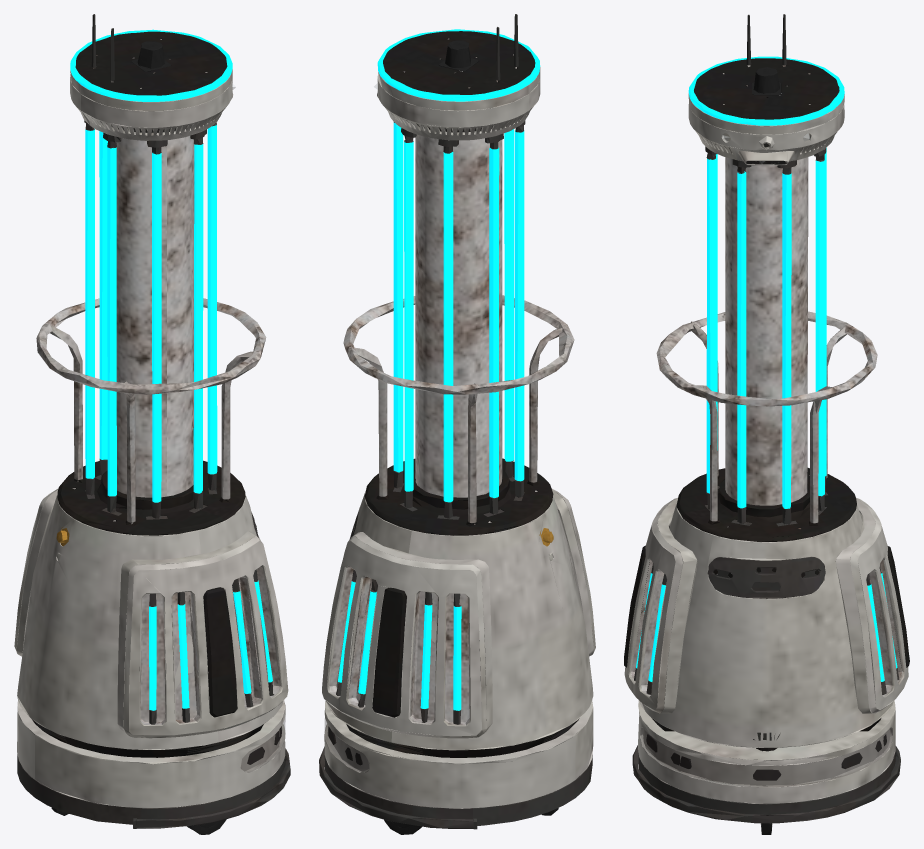
The model's file is craft_r04_lumen_vigil.glb.
3 views of the same model, side by side, from view 1: azimuth 30°, elevation 25°; view 2: azimuth 150°, elevation 25°; view 3: azimuth 270°, elevation 25° (orthographic). The views are drawn at different scales.
Visible parts, largest first — view 1: craft_r04_lumen_vigil; view 2: craft_r04_lumen_vigil; view 3: craft_r04_lumen_vigil.
Part boxes in pixels (x1=…): craft_r04_lumen_vigil: x1=14, y1=14, x2=290, y2=834; craft_r04_lumen_vigil: x1=319, y1=14, x2=595, y2=834; craft_r04_lumen_vigil: x1=624, y1=14, x2=909, y2=834.
Bounding box in the file's own units: 0.572 × 1.81 × 0.6241.
13 materials, 10 textured.
